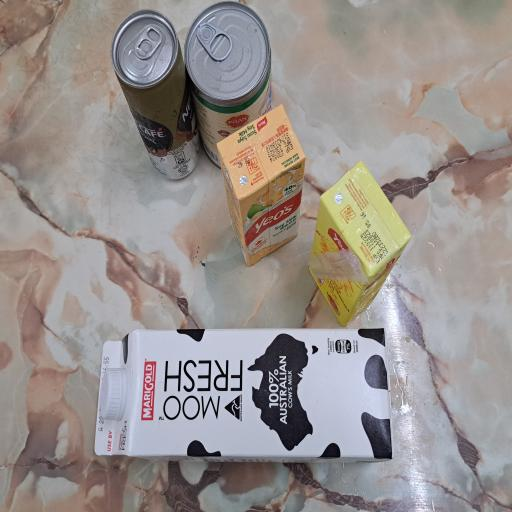can: (110, 9, 202, 181), (184, 1, 272, 170)
drink carton: (96, 327, 393, 463), (309, 161, 412, 326), (217, 103, 306, 267)
plastic bottle cap: (100, 368, 126, 421)
pop tab: (197, 21, 233, 61), (135, 25, 162, 60)
